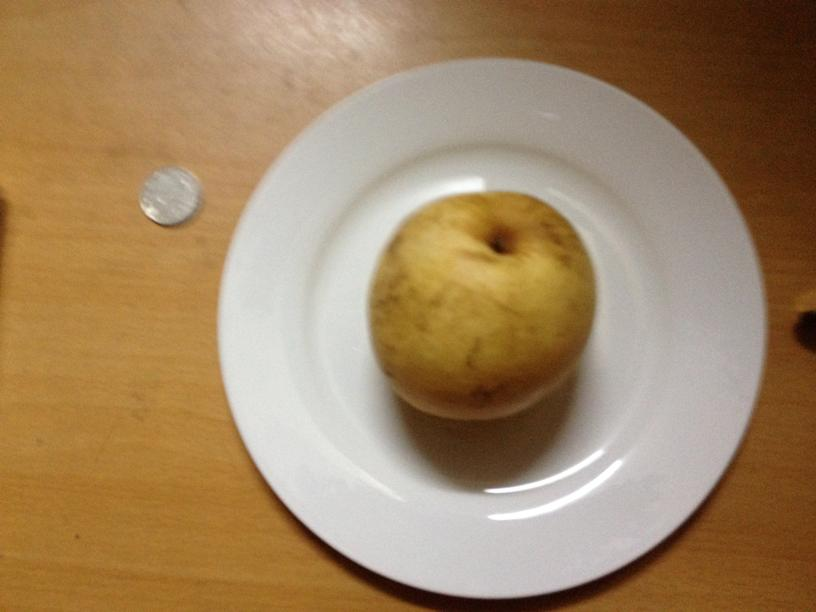coin: (137, 168, 201, 228)
pear: (370, 188, 598, 425)
